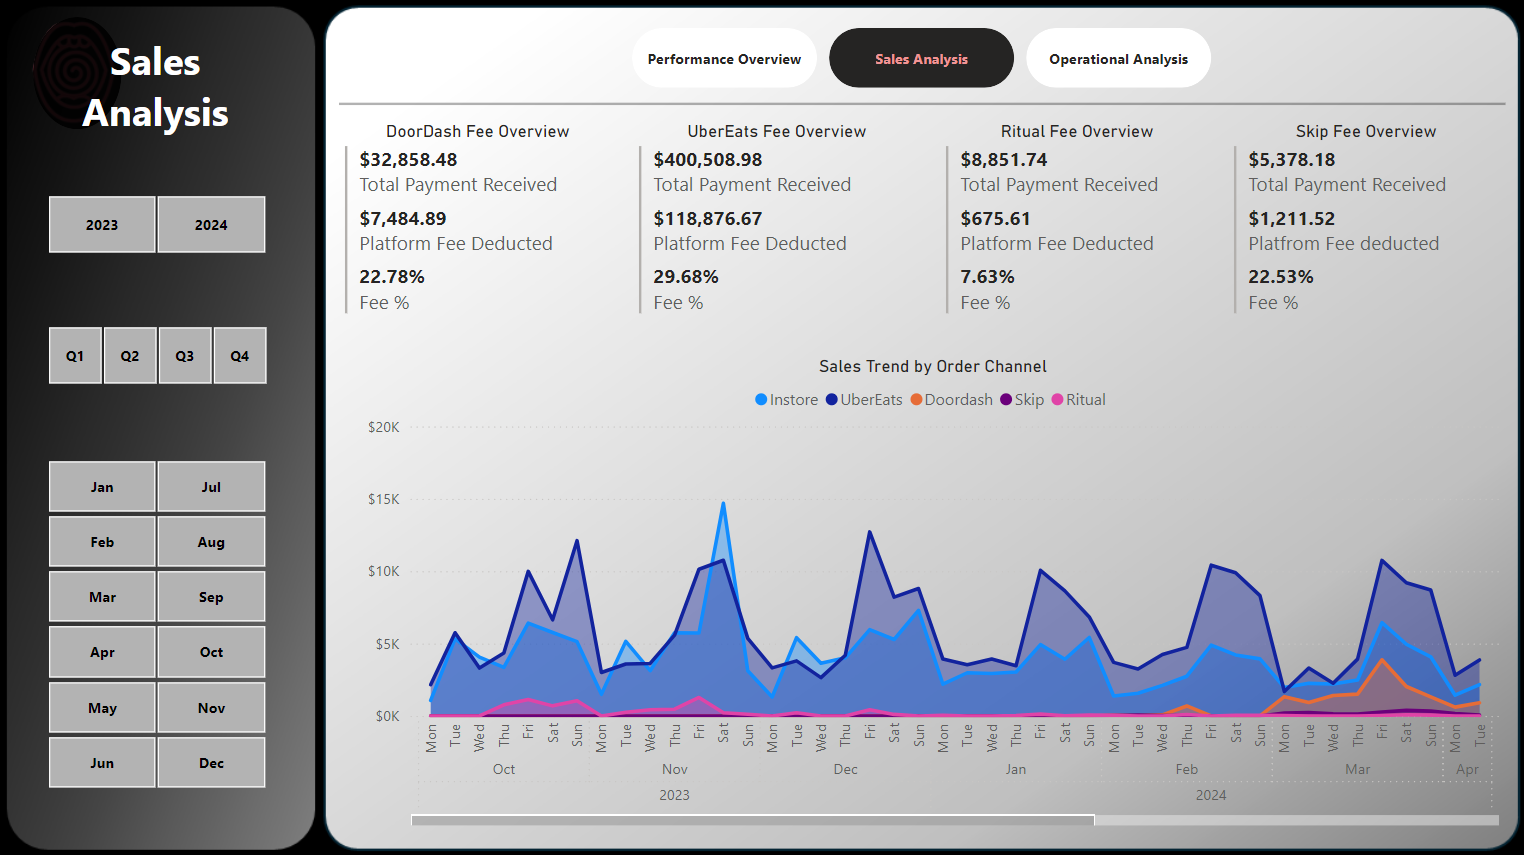

This screenshot's page, from the dashboard's own definition file:
{"tool":"powerbi","page":{"name":"Sales Analysis","canvas":[1280,720],"ordinal":1},"visuals":[{"type":"slicer","fields":{"Values":["Date.Year"]},"box":[15.9,158.3,230.5,60.5],"z":0,"group":"g1"},{"type":"shape","box":[28.5,14.7,74.2,94],"z":500},{"type":"textbox","box":[38.8,23.3,184.6,107],"z":1000},{"type":"slicer","fields":{"Values":["Date.Quarter"]},"box":[15.9,267.7,231.6,60.5],"z":1000,"group":"g1"},{"type":"shape","box":[284.2,73.8,976.6,28.2],"z":2000},{"type":"slicer","fields":{"Values":["Date.Month"]},"box":[15.9,380.3,230.5,286.8],"z":2000,"group":"g1"},{"type":"pageNavigator","box":[529.6,24.2,486.5,50],"z":3000},{"type":"multiRowCard","title":"DoorDash Fee Overview","fields":{"Values":["Sum(Sales Report.DoorDash_Tendered)","Sum(Sales Report.DoorDash_Fees)"," Measures.DDFee%"]},"box":[284.7,102,232.6,173.1],"z":4000},{"type":"multiRowCard","title":"UberEats Fee Overview","fields":{"Values":["Sum(Sales Report.UberEats_Tendered)","Sum(Sales Report.UberEats_Fees)"," Measures.UberFee%"]},"box":[531.1,102,241.1,173.1],"z":5000},{"type":"multiRowCard","title":"Ritual Fee Overview","fields":{"Values":["Sum(Sales Report.Ritual_Tendered)","Sum(Sales Report.Ritual_Fees)"," Measures.RitualFee%"]},"box":[788.2,102,229.4,173.1],"z":6000},{"type":"multiRowCard","title":"Skip Fee Overview","fields":{"Values":["Sum(Sales Report.SkipTheDishes_Tendered)","Sum(Sales Report.SkipTheDishes_Fees)"," Measures.SkipFee%"]},"box":[1029.3,102,231.6,173.1],"z":7000},{"type":"areaChart","title":"Sales Trend by Order Channel","fields":{"Category":["Date.Year","Date.Month","Date.Day"],"Y":["Sum(Sales Report.InStore_Tendered)","Sum(Sales Report.UberEats_Tendered)","Sum(Sales Report.DoorDash_Tendered)","Sum(Sales Report.SkipTheDishes_Tendered)","Sum(Sales Report.Ritual_Tendered)"]},"box":[303.1,298.9,957.8,397.7],"z":8000},{"type":"group","id":"g1","title":"Group 1","box":[15.9,158.3,231.6,508.8],"z":9000}]}

Visuals, with their boxes in screenshot pixels (x1, y1, x2, y2), scaled from the page's 1280x720 canvas onto the 1524x855 screenshot:
slicer - Date.Year: 19/188/293/260
shape: 34/17/122/129
textbox: 46/28/266/155
slicer - Date.Quarter: 19/318/295/390
shape: 338/88/1501/121
slicer - Date.Month: 19/452/293/792
pageNavigator: 631/29/1210/88
"DoorDash Fee Overview" multiRowCard: 339/121/616/327
"UberEats Fee Overview" multiRowCard: 632/121/919/327
"Ritual Fee Overview" multiRowCard: 938/121/1212/327
"Skip Fee Overview" multiRowCard: 1226/121/1501/327
"Sales Trend by Order Channel" areaChart: 361/355/1501/827
"Group 1" group: 19/188/295/792
